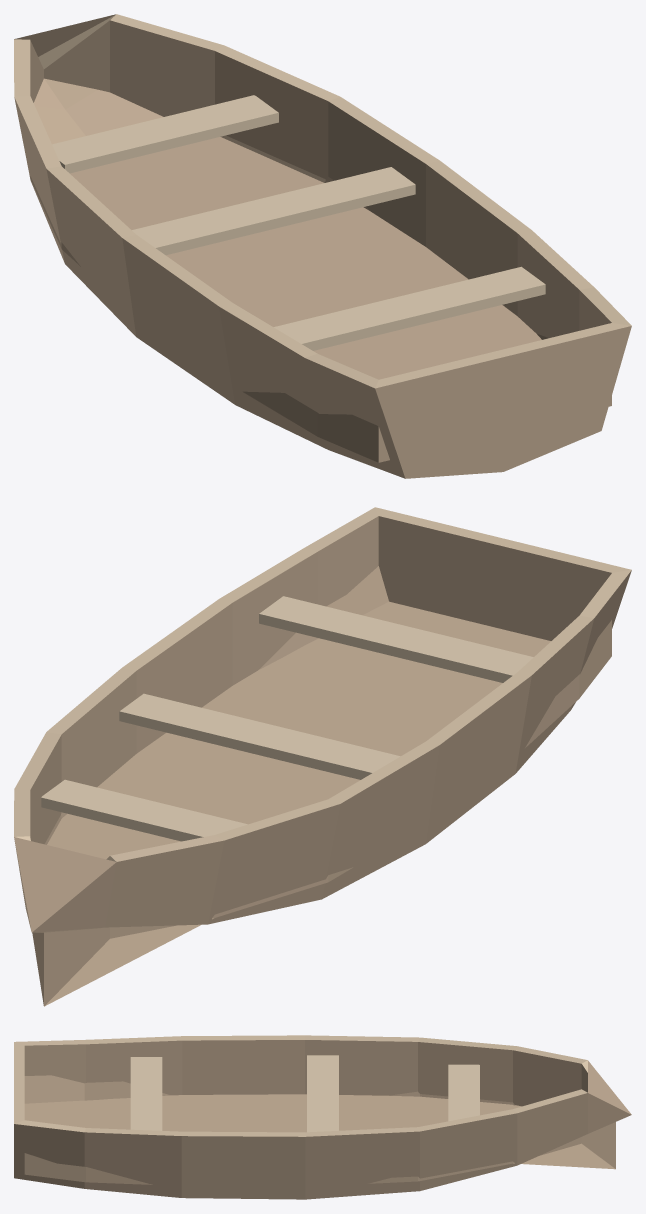
Rendered from WoodenBoat.glb.
3 views of the same model, one above another, from view 1: azimuth 30°, elevation 25°; view 2: azimuth 150°, elevation 25°; view 3: azimuth 270°, elevation 25° (orthographic). The views are drawn at different scales.
Visible parts, largest first — view 1: wooden_boat; view 2: wooden_boat; view 3: wooden_boat.
Part boxes in pixels (x1,y1,x2,y2): wooden_boat: (14,14,631,478); wooden_boat: (14,507,631,1006); wooden_boat: (14,1035,631,1199).
Bounding box in the file's own units: 1.36 × 0.5798 × 3.5.
